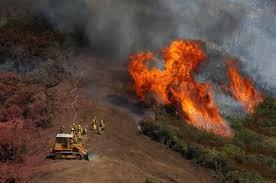fire: (124, 36, 245, 134)
